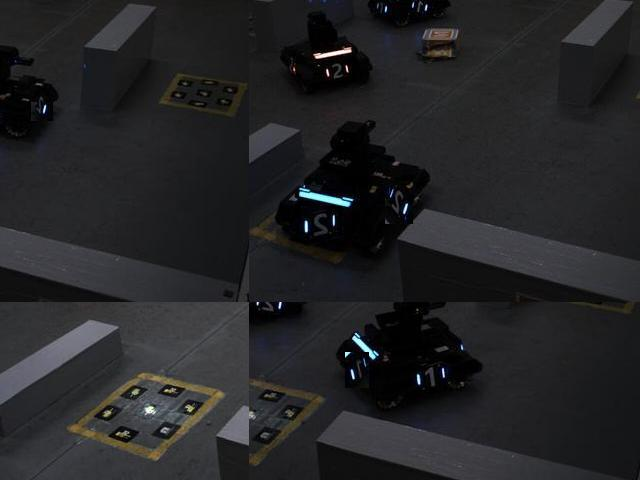armor: (300, 207, 343, 244), (386, 181, 415, 225), (410, 361, 449, 393), (346, 352, 371, 389), (32, 92, 55, 122), (250, 302, 287, 317), (408, 0, 435, 17), (371, 0, 392, 19)
